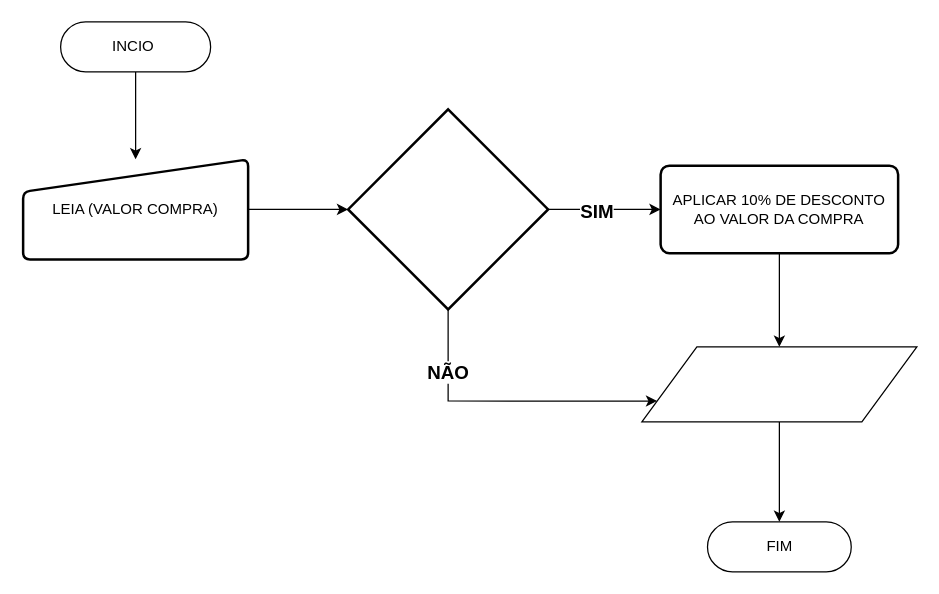
Image size: 939x594. Some labels were removed from this diagram. Here are the shapes that lost their labels. From the top down, the centre of each, then its label:
(x=447, y=209): VALOR COMPRA> 100
(x=779, y=384): ESCREVA O VALOR FINAL DA COMPRA
